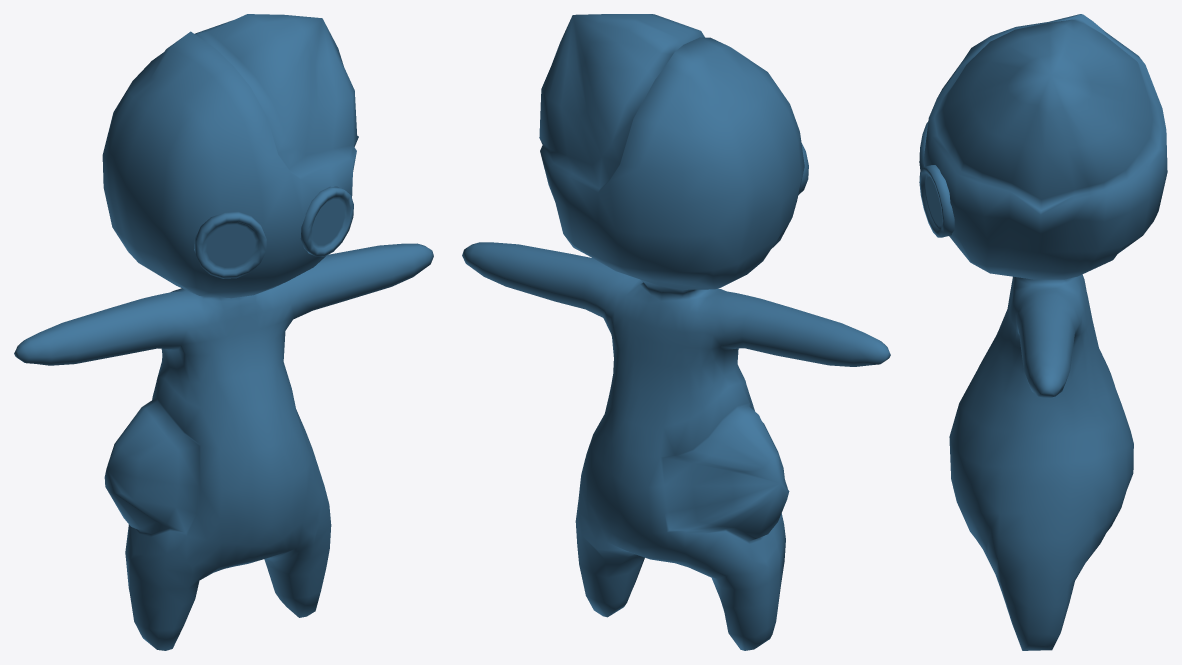
Rendered from Puppe_04_SM.FBX.
3 views of the same model, side by side, from view 1: azimuth 30°, elevation 25°; view 2: azimuth 150°, elevation 25°; view 3: azimuth 270°, elevation 25° (orthographic). The views are drawn at different scales.
Parts seen in each view (by area): view 1: Voodoo 04; view 2: Voodoo 04; view 3: Voodoo 04.
Boxes of the visible parts, left/top/right/bottom form: Voodoo 04: left=14, top=14, right=433, bottom=650; Voodoo 04: left=462, top=14, right=890, bottom=650; Voodoo 04: left=919, top=14, right=1167, bottom=650.
Size of the model in its own units: 30.64 by 42.09 by 15.64.
